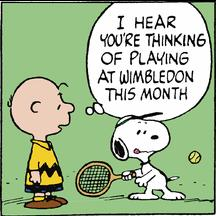charlie: (7, 75, 75, 209)
snoopy: (76, 110, 186, 200)
